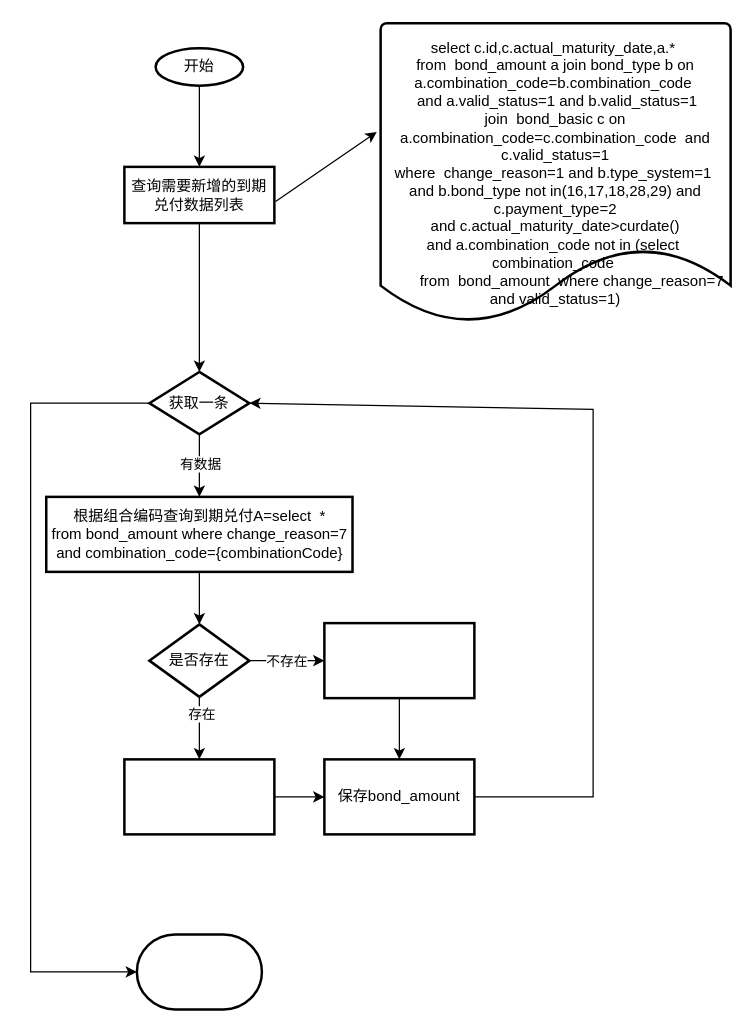
Some shapes in this 754 by 1031 pixel diagram are drawn without their labels. Here are the shapes that lost their labels. From the top down, the box of each, then its label:
(322, 621, 475, 699): 新增一条到期兑付,按照映射逻辑赋值
(122, 758, 275, 835): 把A更新成有效,按照映射逻辑重新赋值
(135, 932, 262, 1010): 结束
